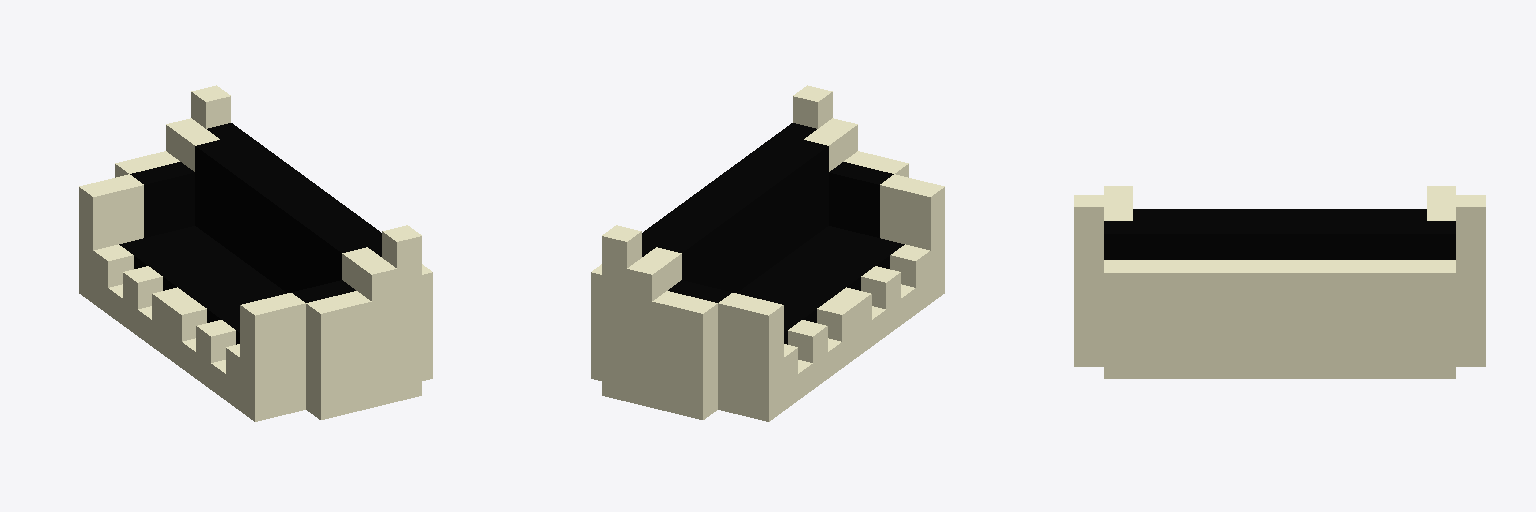
The picture shows the model from 3 angles: view 1: azimuth 30°, elevation 25°; view 2: azimuth 150°, elevation 25°; view 3: azimuth 270°, elevation 25°; orthographic projection.
Visible parts, largest first — view 1: Mdl_Boney_6; view 2: Mdl_Boney_6; view 3: Mdl_Boney_6.
Part boxes in pixels (x1,y1,x2,y2): Mdl_Boney_6: (79, 85, 432, 421); Mdl_Boney_6: (591, 85, 944, 421); Mdl_Boney_6: (1074, 186, 1485, 378).
Size of the model in its own units: 7 by 6 by 14.
Materials: 1 (1 with a texture image).